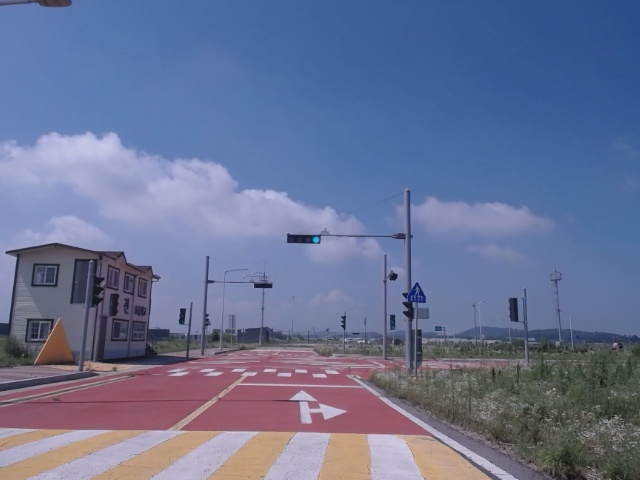straight_green_4: (288, 235, 321, 243)
